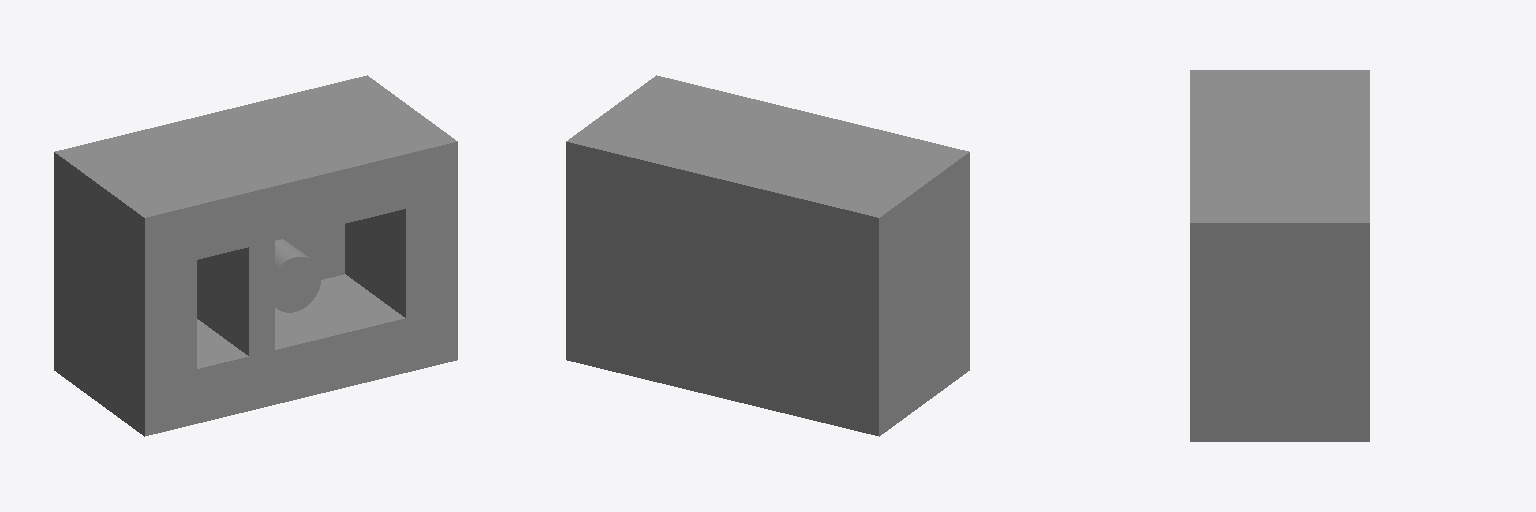
Rendered from wall.obj.
3 renders of one model, left to right at view 1: azimuth 30°, elevation 25°; view 2: azimuth 150°, elevation 25°; view 3: azimuth 270°, elevation 25°, orthographic.
Parts seen in each view (by area): view 1: tank; view 2: tank; view 3: tank.
Boxes of the visible parts, x1,y1,x2,y2 form: tank: [54, 75, 457, 436]; tank: [566, 75, 969, 436]; tank: [1190, 70, 1369, 441].
Size of the model in its own units: 3 by 2 by 1.5.